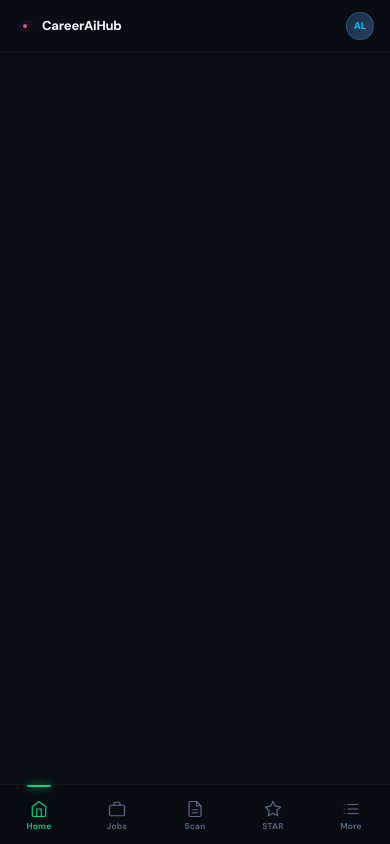
AppSidebar accessibility › marks the current phone tab and exposes the More drawer as a dialog
Click the button "More": [351, 814] box [312, 785, 389, 843]
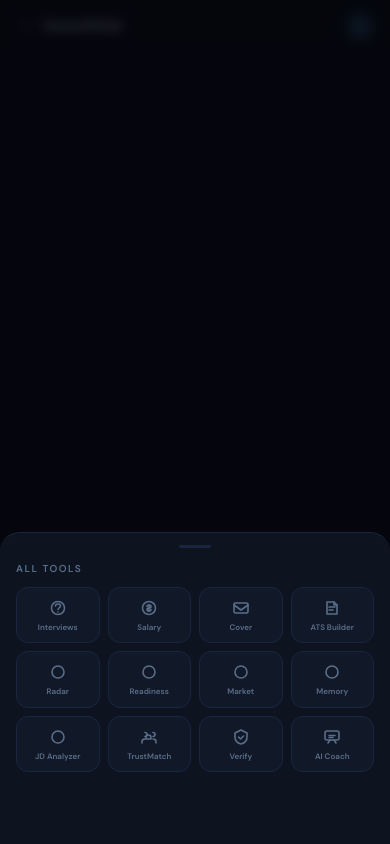
Expected: the dialog "All tools" is shown, [0, 532, 389, 843]
